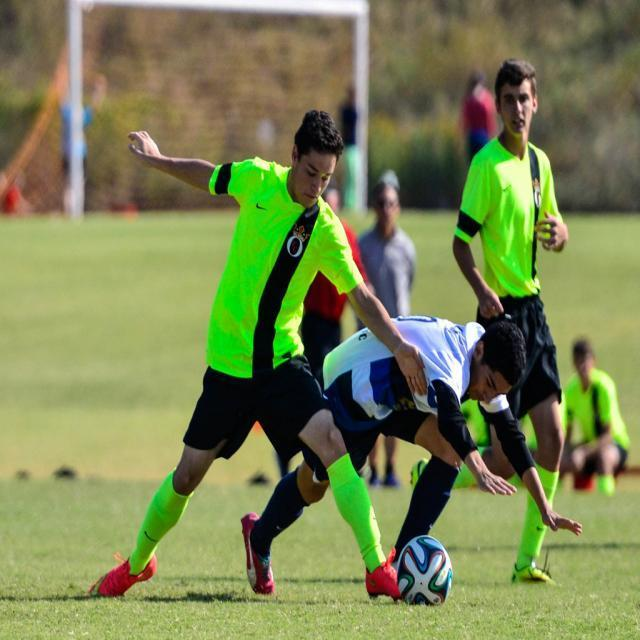football: (398, 522, 454, 617)
